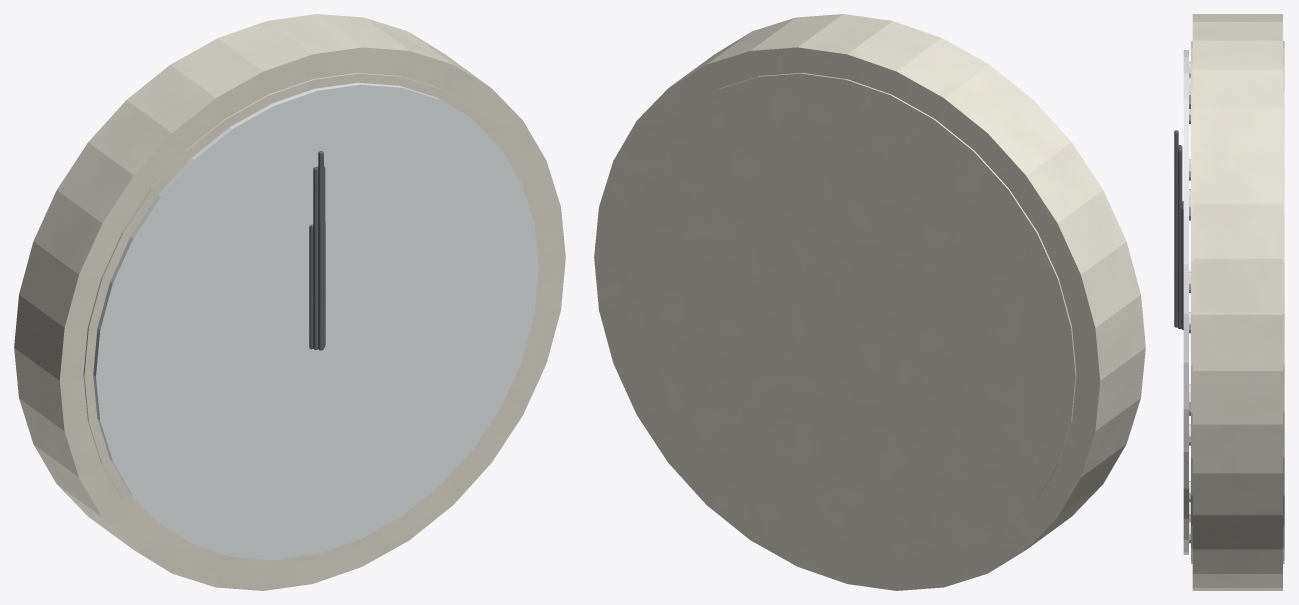
File: PRP_WallClock.fbx
The picture shows the model from 3 angles, left to right: view 1: azimuth 30°, elevation 25°; view 2: azimuth 150°, elevation 25°; view 3: azimuth 270°, elevation 25°; orthographic projection.
Parts seen in each view (by area): view 1: Clock_Glass, Clock_Body, Clock_Hand_M, Clock_Hand_S, Clock_Hand_H; view 2: Clock_Body; view 3: Clock_Body, Clock_Glass, Clock_Hand_S, Clock_Hand_M, Clock_Hand_H.
Part boxes in pixels (left/top/right/bottom): Clock_Glass: left=93, top=82, right=538, bottom=560; Clock_Body: left=14, top=14, right=565, bottom=590; Clock_Hand_M: left=313, top=166, right=325, bottom=349; Clock_Hand_S: left=318, top=151, right=323, bottom=350; Clock_Hand_H: left=309, top=223, right=325, bottom=349; Clock_Body: left=594, top=14, right=1145, bottom=590; Clock_Body: left=1189, top=14, right=1284, bottom=590; Clock_Glass: left=1183, top=50, right=1188, bottom=554; Clock_Hand_S: left=1174, top=130, right=1178, bottom=327; Clock_Hand_M: left=1178, top=145, right=1182, bottom=328; Clock_Hand_H: left=1181, top=201, right=1183, bottom=330.
Size of the model in its own units: 32 by 32 by 6.13.
